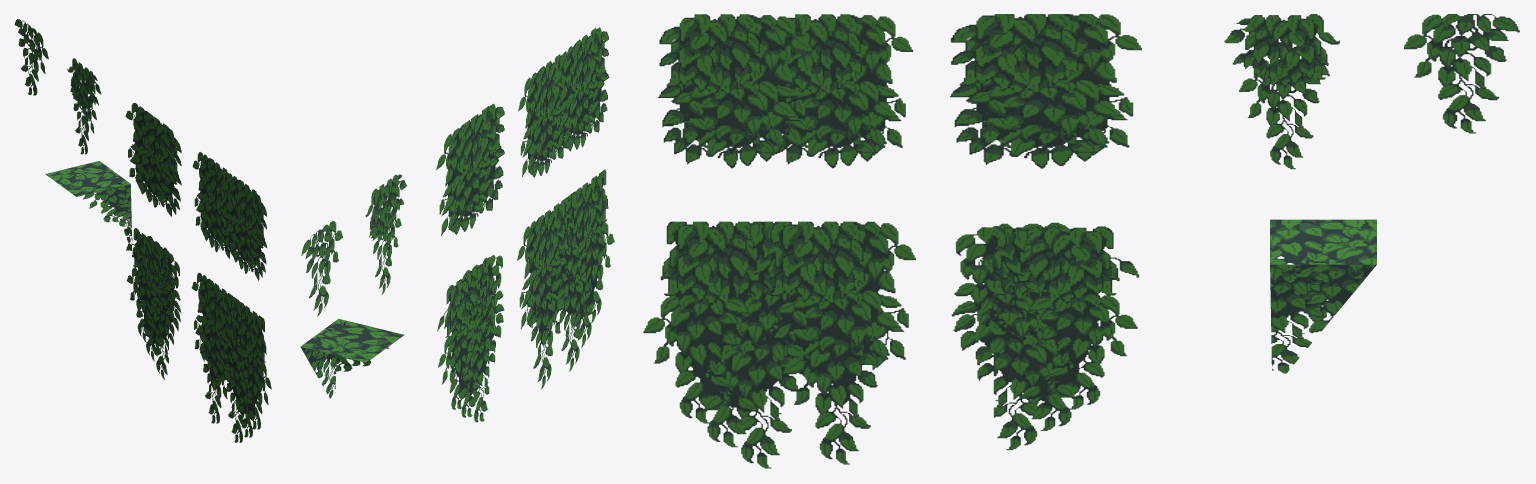
Rendered from ivy_all.fbx.
3 views of the same model, side by side, from view 1: azimuth 30°, elevation 25°; view 2: azimuth 150°, elevation 25°; view 3: azimuth 270°, elevation 25° (orthographic). The views are drawn at different scales.
Parts seen in each view (by area): view 1: Plane, Plane.003, Plane.001, Plane.002, Cube, Plane.004, Plane.005; view 2: Plane, Plane.003, Plane.001, Plane.002, Cube, Plane.004, Plane.005; view 3: Plane, Plane.003, Plane.001, Plane.002, Cube, Plane.004, Plane.005.
Boxes of the visible parts, x1=… form: Plane: x1=191, y1=272, x2=271, y2=442; Plane.003: x1=192, y1=152, x2=267, y2=280; Plane.001: x1=126, y1=228, x2=181, y2=379; Plane.002: x1=125, y1=103, x2=181, y2=216; Cube: x1=45, y1=161, x2=132, y2=243; Plane.004: x1=67, y1=58, x2=101, y2=154; Plane.005: x1=14, y1=19, x2=48, y2=95; Plane: x1=517, y1=169, x2=614, y2=389; Plane.003: x1=518, y1=27, x2=609, y2=177; Plane.001: x1=437, y1=255, x2=504, y2=422; Plane.002: x1=436, y1=103, x2=504, y2=235; Cube: x1=300, y1=318, x2=403, y2=398; Plane.004: x1=365, y1=174, x2=406, y2=294; Plane.005: x1=301, y1=220, x2=342, y2=316; Plane: x1=643, y1=221, x2=915, y2=468; Plane.003: x1=658, y1=14, x2=913, y2=168; Plane.001: x1=951, y1=222, x2=1139, y2=450; Plane.002: x1=950, y1=14, x2=1141, y2=168; Cube: x1=1270, y1=219, x2=1376, y2=373; Plane.004: x1=1224, y1=14, x2=1339, y2=169; Plane.005: x1=1404, y1=14, x2=1519, y2=133.
Size of the model in its own units: 81.67 by 367 by 642.
